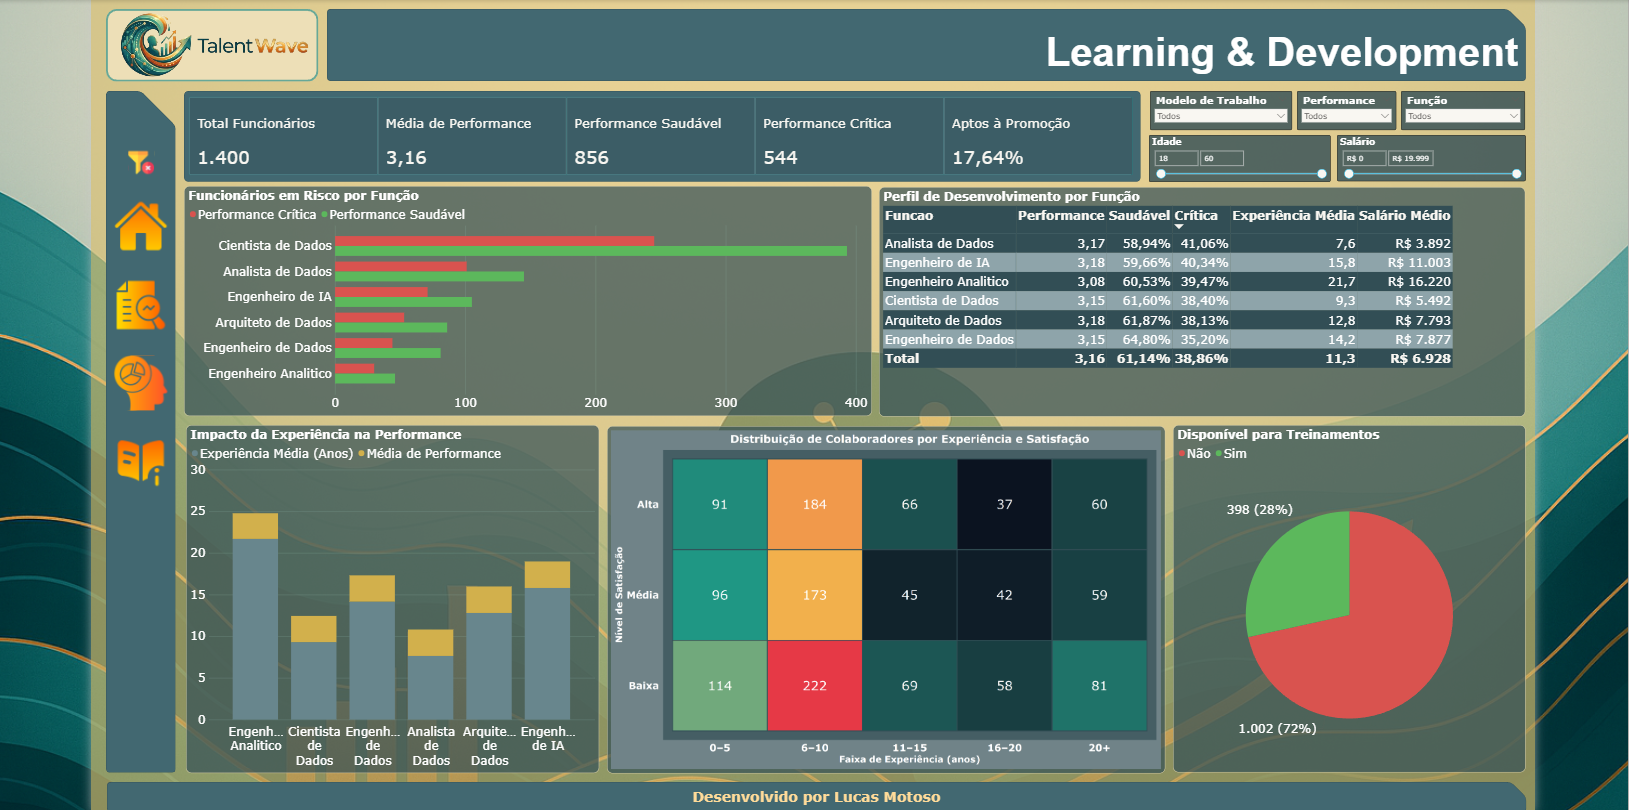

The page's visual inventory and layout, read from the dashboard file:
{"tool":"powerbi","page":{"name":"Learning & Development","canvas":[3840,2160],"ordinal":2},"visuals":[{"type":"group","id":"g1","title":"Logo Talent Wave","box":[0,24.2,658.2,193.4],"z":0},{"type":"shape","title":"Shape do Logo","box":[40.1,24.2,564.9,193.2],"z":0,"group":"g1"},{"type":"shape","box":[248.1,241.6,2545,241.6],"z":0,"group":"g2"},{"type":"image","title":"Logo","box":[0,24.2,658.2,190.7],"z":1000,"group":"g1"},{"type":"cardVisual","title":"Total de Funcionários","fields":{"Data":["Medidas.Total Funcionários","Medidas.Média de Performance","Medidas.Funcionários com Performance Saudável","Medidas.Funcionários com Performance Crítica","Medidas.% Funcionários Aptos à Promoção"]},"box":[254.9,252,2522.2,218.9],"z":1000,"group":"g2"},{"type":"shape","title":"Footer","box":[41.9,2081.1,3775.6,80.5],"z":1000},{"type":"textbox","title":"Texto do Footer","box":[1534.7,2090.1,789.9,64.5],"z":2000},{"type":"shape","title":"Forma Superior","box":[627.8,23.9,3189.5,191.5],"z":3000},{"type":"shape","title":"Forma lateral esquerda","box":[40.3,241.8,185.4,1813.4],"z":4000},{"type":"clusteredBarChart","title":"Funcionários em Risco por Função","fields":{"Category":["DimFuncao.Funcao"],"Y":["Medidas.Funcionários com Performance Crítica","Medidas.Funcionários com Performance Saudável"]},"box":[248.1,496.1,1829.8,612.1],"z":5000},{"type":"pieChart","title":"Disponível para Treinamentos","fields":{"Category":["FactFuncionarios.Disponivel_Hora_Extra"],"Y":["Medidas.Total Funcionários"]},"box":[2877.8,1131.5,938.5,923.6],"z":6000},{"type":"group","id":"g2","title":"Grupo 1","box":[248.1,241.6,2545,241.6],"z":7000},{"type":"slicer","fields":{"Values":["DimViagem.Viagem"]},"box":[2816,242,378,104],"z":8000},{"type":"slicer","fields":{"Values":["DimFuncao.Funcao"]},"box":[3486,242,330,104],"z":9000},{"type":"textbox","box":[2207.9,71.8,1593.4,143.6],"z":10000},{"type":"columnChart","title":"Impacto da Experiência na Performance","fields":{"Category":["DimFuncao.Funcao"],"Y":["Medidas.Experiência Média (Anos)","Medidas.Média de Performance"]},"box":[252.7,1130.5,1098.6,925.7],"z":11000},{"type":"pivotTable","title":"Perfil de Desenvolvimento por Função","fields":{"Rows":["DimFuncao.Funcao"],"Values":["Medidas.Média de Performance","Medidas.% Performance Saudável","Medidas.% Performance Crítica","Medidas.Experiência Média (Anos)","Medidas.Salário Médio Mensal"]},"box":[2095.9,497,1719.4,611.2],"z":12000},{"type":"slicer","fields":{"Values":["FactFuncionarios.Indice_Envolvimento_Trabalho"]},"box":[3208,242,264,104],"z":13000},{"type":"actionButton","box":[39.9,393,186.8,77.3],"z":14000},{"type":"actionButton","box":[38.3,524.3,190.1,154.6],"z":15000},{"type":"actionButton","box":[38.3,732.9,190.1,154.6],"z":16000},{"type":"actionButton","box":[38.3,941.5,190.1,154.6],"z":17000},{"type":"actionButton","box":[38.3,1150.1,190.1,154.6],"z":18000},{"type":"slicer","title":"Idade","fields":{"Values":["FactFuncionarios.Idade"]},"box":[2815,358.3,483.3,125],"z":19000},{"type":"slicer","title":"Salário","fields":{"Values":["FactFuncionarios.Salario_Mensal"]},"box":[3315,360,501.7,123.3],"z":20000},{"type":"scriptVisual","title":"Relação entre Experiência e Satisfação no Trabalho","fields":{"Values":["FactFuncionarios.Anos_Experiencia","FactFuncionarios.Salario_Mensal","FactFuncionarios.Nivel_Satisfacao_Trabalho"]},"box":[1372.1,1134.5,1484.9,923.6],"z":21000}]}

Visuals, with their boxes on the page's 3840x2160 design canvas (x1, y1, x2, y2). These are canvas units, not pixel positions in the 1629x810 screenshot, which may show the page scaled, cropped or inside an application window:
"Logo Talent Wave" group: x1=0 y1=24 x2=658 y2=218
"Shape do Logo" shape: x1=40 y1=24 x2=605 y2=217
shape: x1=248 y1=242 x2=2793 y2=483
"Logo" image: x1=0 y1=24 x2=658 y2=215
"Total de Funcionários" cardVisual: x1=255 y1=252 x2=2777 y2=471
"Footer" shape: x1=42 y1=2081 x2=3818 y2=2162
"Texto do Footer" textbox: x1=1535 y1=2090 x2=2325 y2=2155
"Forma Superior" shape: x1=628 y1=24 x2=3817 y2=215
"Forma lateral esquerda" shape: x1=40 y1=242 x2=226 y2=2055
"Funcionários em Risco por Função" clusteredBarChart: x1=248 y1=496 x2=2078 y2=1108
"Disponível para Treinamentos" pieChart: x1=2878 y1=1132 x2=3816 y2=2055
"Grupo 1" group: x1=248 y1=242 x2=2793 y2=483
slicer - DimViagem.Viagem: x1=2816 y1=242 x2=3194 y2=346
slicer - DimFuncao.Funcao: x1=3486 y1=242 x2=3816 y2=346
textbox: x1=2208 y1=72 x2=3801 y2=215
"Impacto da Experiência na Performance" columnChart: x1=253 y1=1130 x2=1351 y2=2056
"Perfil de Desenvolvimento por Função" pivotTable: x1=2096 y1=497 x2=3815 y2=1108
slicer - FactFuncionarios.Indice_Envolvimento_Trabalho: x1=3208 y1=242 x2=3472 y2=346
actionButton: x1=40 y1=393 x2=227 y2=470
actionButton: x1=38 y1=524 x2=228 y2=679
actionButton: x1=38 y1=733 x2=228 y2=888
actionButton: x1=38 y1=942 x2=228 y2=1096
actionButton: x1=38 y1=1150 x2=228 y2=1305
"Idade" slicer: x1=2815 y1=358 x2=3298 y2=483
"Salário" slicer: x1=3315 y1=360 x2=3817 y2=483
"Relação entre Experiência e Satisfação no Trabalho" scriptVisual: x1=1372 y1=1134 x2=2857 y2=2058
